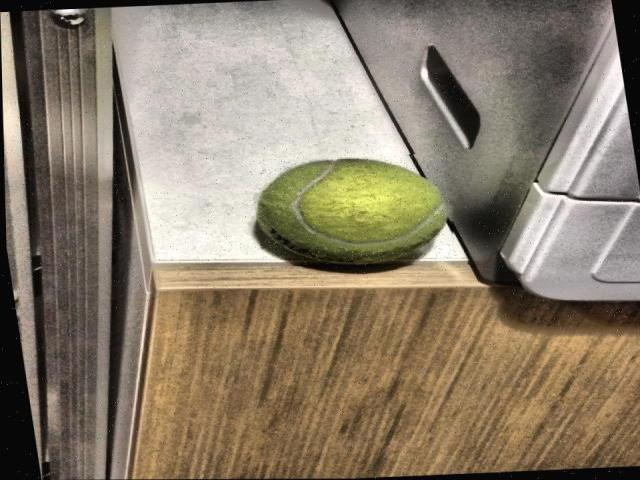tennis-ball: (257, 157, 449, 272)
